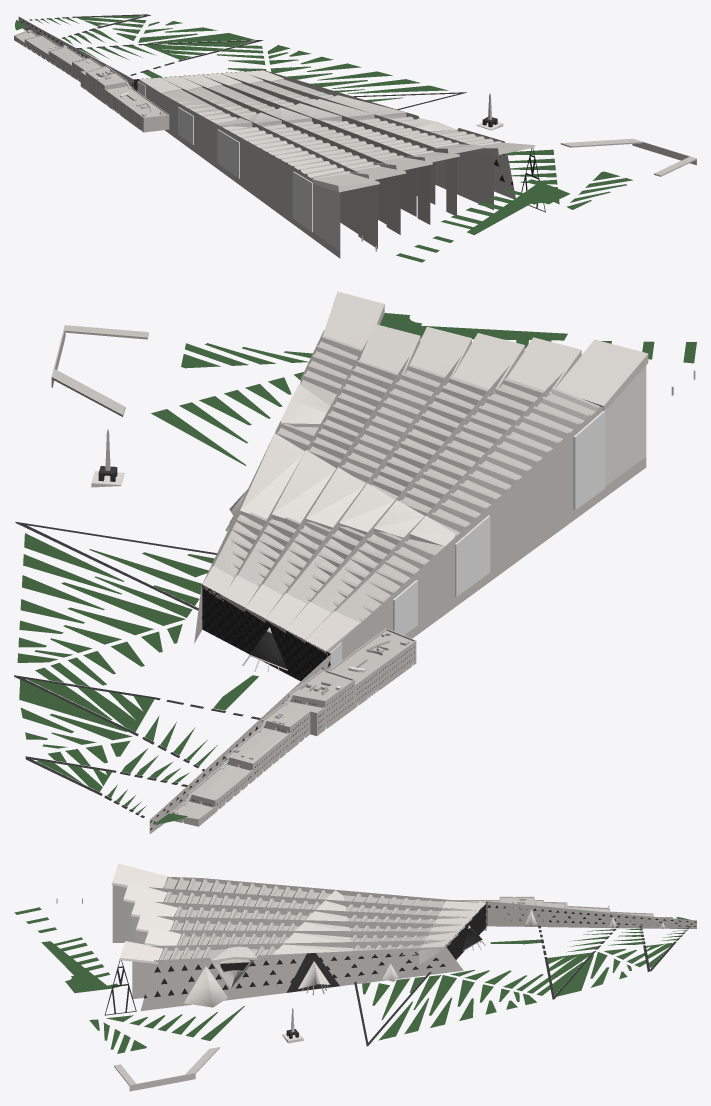
File: 20250702_museum_for_mb5.glb
3 views of the same model, one above another, from view 1: azimuth 30°, elevation 25°; view 2: azimuth 150°, elevation 25°; view 3: azimuth 270°, elevation 25° (orthographic). The views are drawn at different scales.
Visible parts, largest first — view 1: Plane.011, Plane.010, Plane.018, Plane.049, Plane.079, Plane.002, Plane.083, Plane.012, Plane.075, Plane.005, Plane.080, Plane.051 (+2 smaller); view 2: Plane.018, Plane.049, Plane.010, Plane.079, Plane.002, Plane.012, Plane.011, Plane.068, Plane.005, Plane.080, Plane.075, Plane.083 (+4 smaller); view 3: Plane.075, Plane.011, Plane.018, Plane.049, Plane.079, Plane.002, Plane.053, Plane.083, Plane.010, Plane.005, Plane.012, Plane.080 (+5 smaller).
Boxes of the visible parts, x1,y1,x2,y2 form: Plane.011: (168, 74, 493, 248); Plane.010: (137, 80, 545, 258); Plane.018: (164, 87, 501, 178); Plane.049: (139, 70, 534, 192); Plane.079: (15, 15, 447, 101); Plane.002: (14, 29, 169, 132); Plane.083: (396, 179, 570, 262); Plane.012: (162, 79, 333, 120); Plane.075: (18, 16, 515, 199); Plane.005: (507, 149, 633, 209); Plane.080: (29, 14, 466, 109); Plane.051: (560, 138, 696, 176); Plane.018: (230, 335, 601, 621); Plane.049: (202, 291, 648, 653); Plane.010: (327, 365, 646, 668); Plane.079: (17, 533, 214, 824); Plane.002: (169, 628, 416, 826); Plane.012: (214, 514, 429, 622); Plane.011: (229, 340, 563, 638); Plane.068: (202, 584, 330, 681); Plane.005: (151, 343, 312, 465); Plane.080: (14, 522, 260, 817); Plane.075: (149, 330, 330, 833); Plane.083: (380, 313, 696, 363); Plane.075: (140, 901, 696, 1010); Plane.011: (112, 885, 476, 998); Plane.018: (157, 877, 442, 962); Plane.049: (111, 863, 485, 964); Plane.079: (362, 917, 690, 1040); Plane.002: (453, 896, 676, 928); Plane.053: (184, 909, 664, 1007); Plane.083: (14, 907, 119, 993); Plane.010: (104, 877, 486, 1015); Plane.005: (89, 1006, 244, 1053); Plane.012: (358, 897, 445, 950); Plane.080: (354, 925, 690, 1046).
Size of the model in its own units: 442 by 79.59 by 741.
